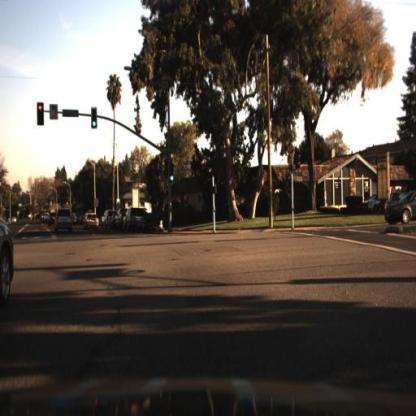car: (0, 162, 20, 344), (0, 187, 16, 320), (122, 206, 150, 236), (48, 206, 72, 238), (81, 209, 102, 232), (112, 204, 126, 237), (112, 205, 126, 232), (83, 210, 99, 232), (101, 207, 111, 237)
trafficLight-Green: (88, 108, 99, 131), (91, 115, 99, 133), (168, 166, 176, 184), (168, 170, 176, 186)
trafficLight-RedLeft: (35, 102, 45, 128), (36, 101, 44, 122)
